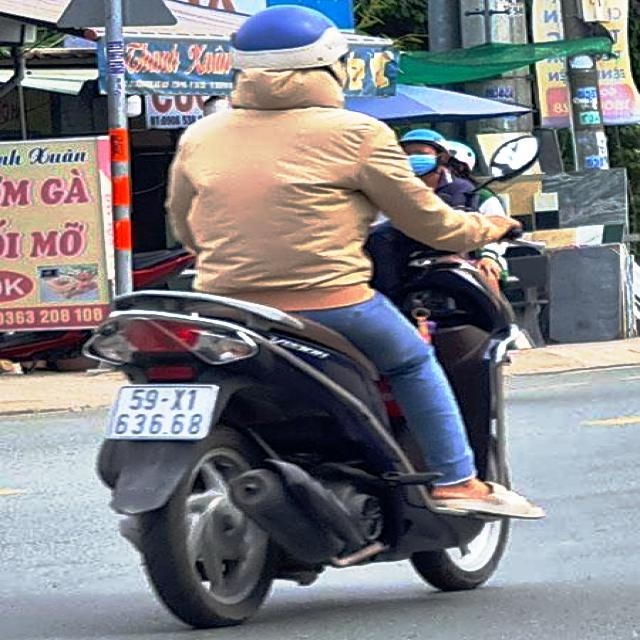license_plate: (110, 388, 219, 438)
